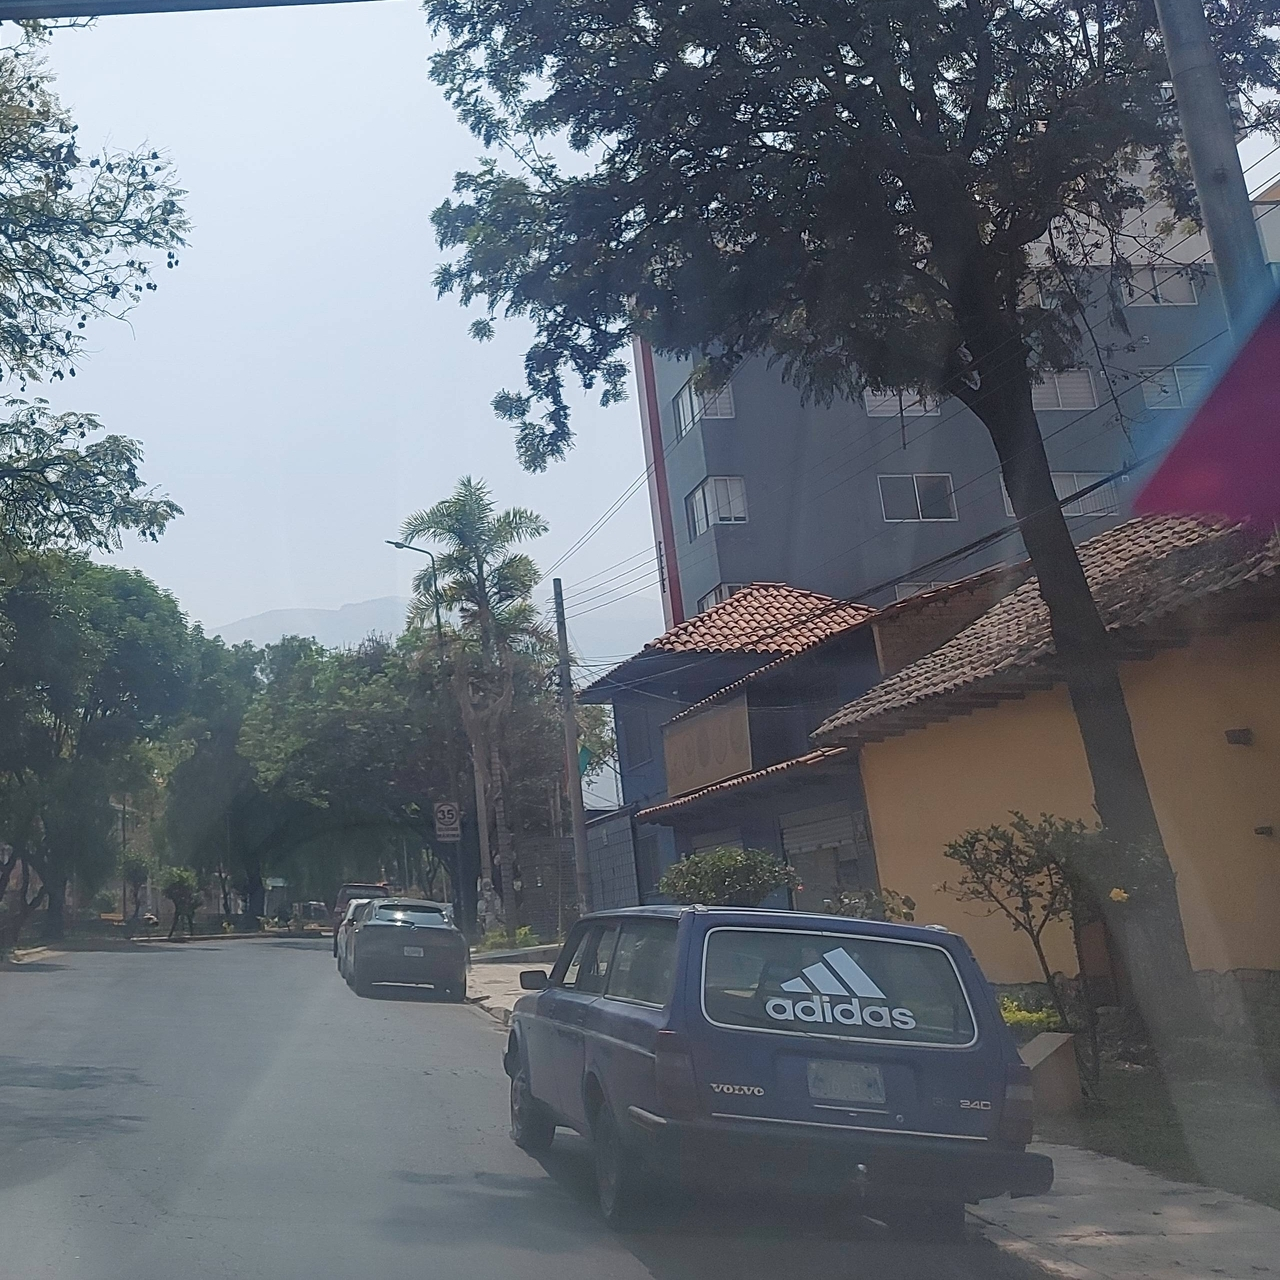limite-velocidad-35: (434, 799, 463, 844)
